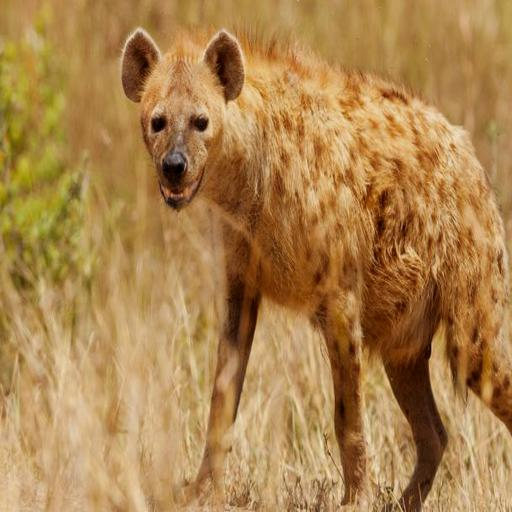hyenas: (103, 4, 496, 470)
